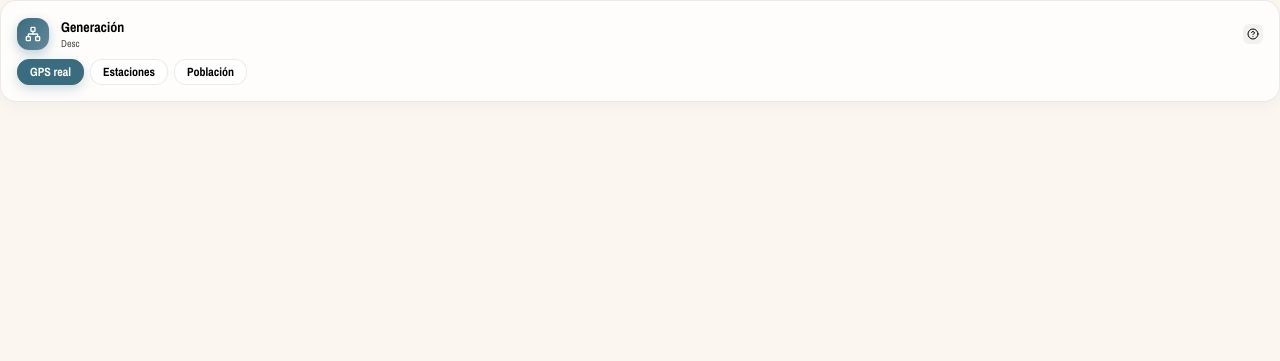
Test: FilterCard — per-option methodology accordion › expands an individual other option on click
Click the button named "mostrar información": x=1253, y=34 1243,24 -> 1263,44
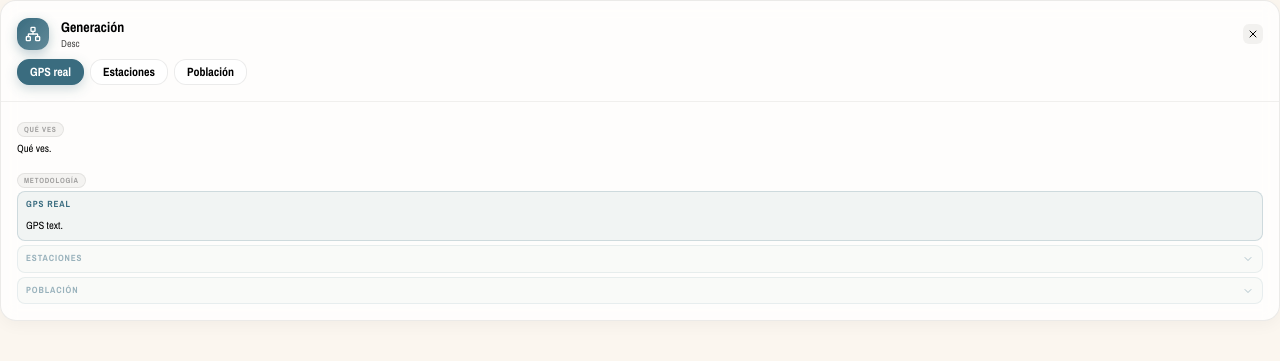
Click the button with aria-label "expandir estaciones": x=54, y=258 18,246 -> 1262,272
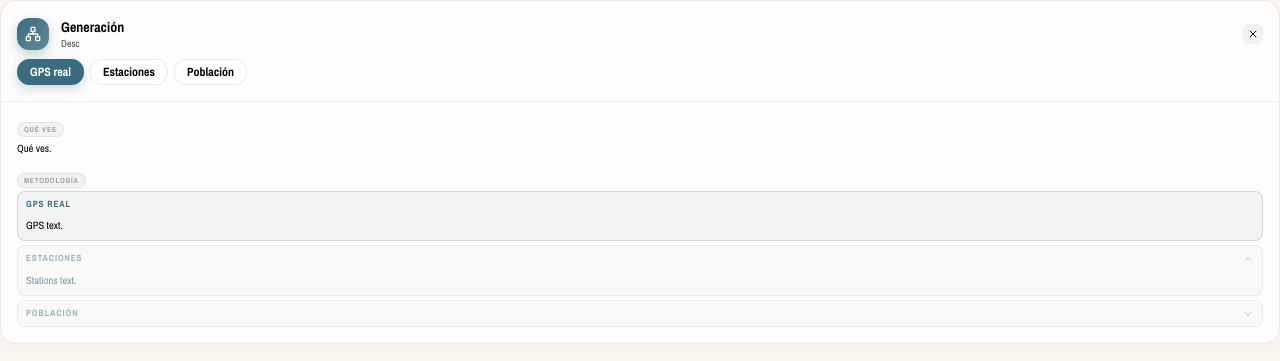
Check: the text "Stations text." is shown, box 26,273 -> 76,287
